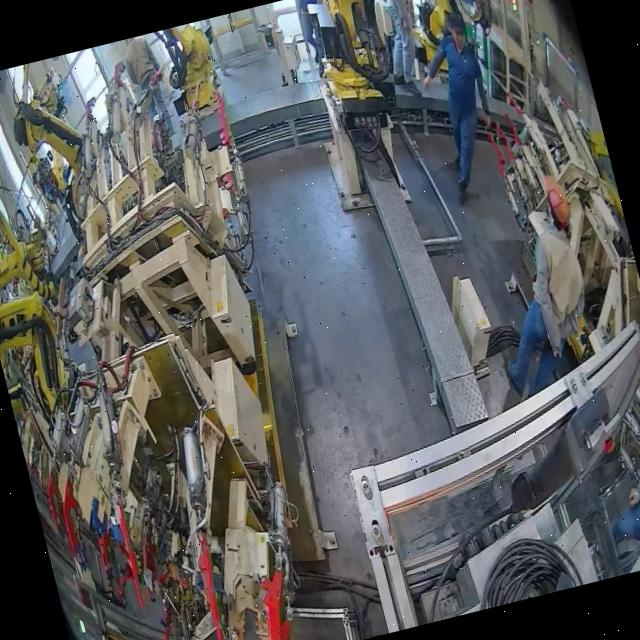Person: (462, 172, 612, 403), (406, 8, 511, 206), (104, 33, 179, 154), (366, 0, 434, 98), (292, 0, 333, 66)
